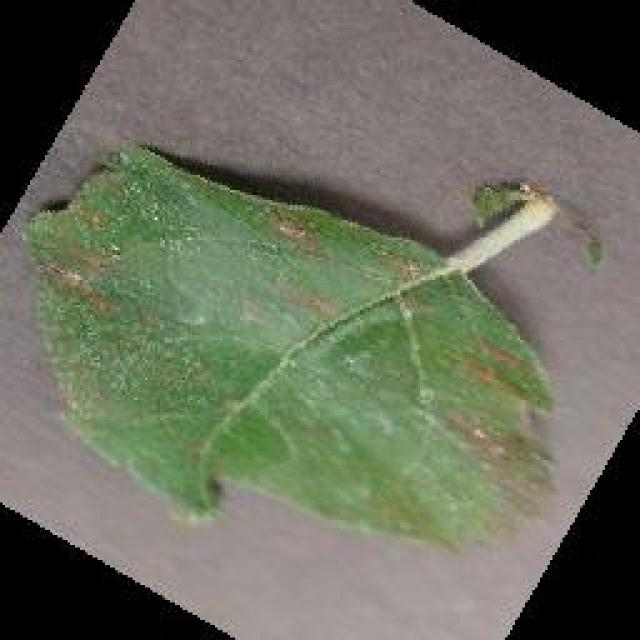apple rust disease: (20, 137, 578, 555)
